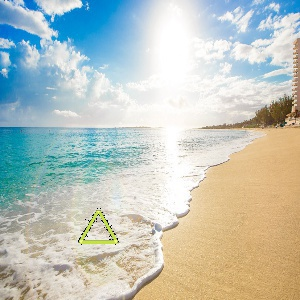triangle: (75, 205, 123, 248)
